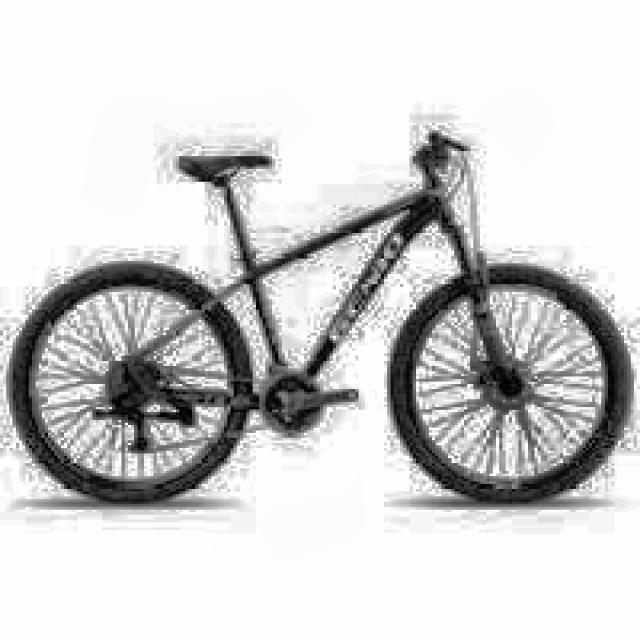motorcycle: (14, 121, 640, 514)
